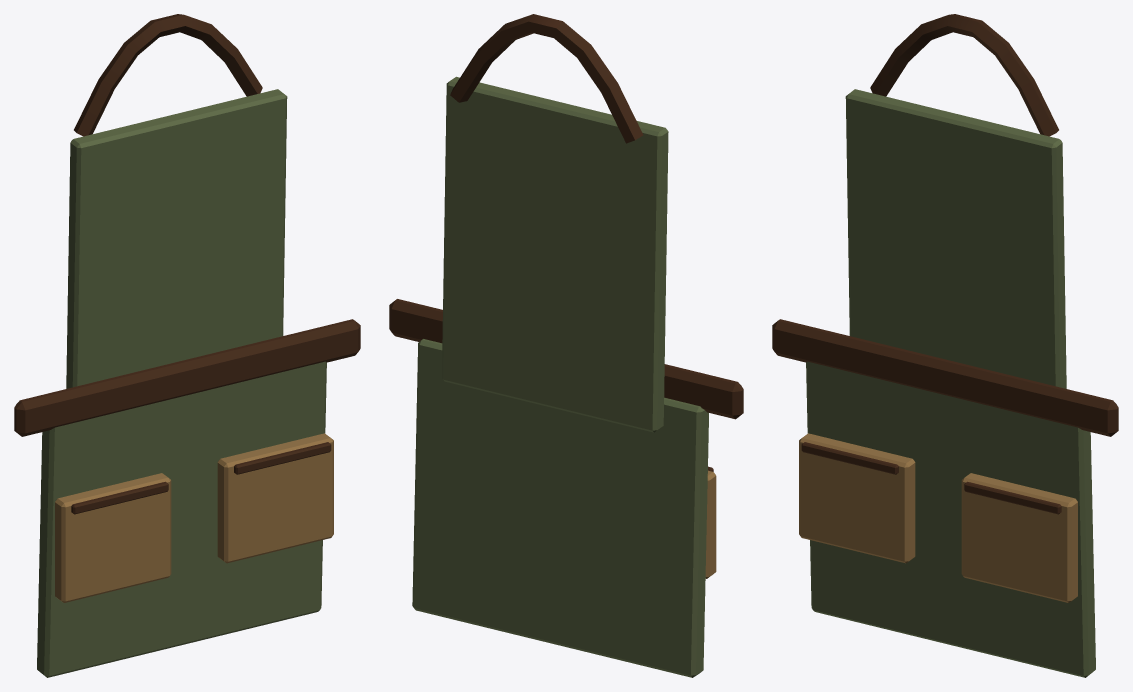
File: wearable_harvest_apron_a.glb
3 views of the same model, side by side, from view 1: azimuth 30°, elevation 25°; view 2: azimuth 150°, elevation 25°; view 3: azimuth 330°, elevation 25° (orthographic). The views are drawn at different scales.
Parts seen in each view (by area): view 1: harvest_apron_bib, harvest_apron_neck; view 2: harvest_apron_bib, harvest_apron_neck; view 3: harvest_apron_bib, harvest_apron_neck.
Part boxes in pixels (x1,y1,x2,y2): harvest_apron_bib: [37, 89, 333, 677]; harvest_apron_neck: [14, 14, 360, 514]; harvest_apron_bib: [412, 76, 716, 677]; harvest_apron_neck: [389, 14, 743, 471]; harvest_apron_bib: [799, 89, 1095, 677]; harvest_apron_neck: [772, 14, 1118, 514].
Size of the model in its own units: 0.7201 by 1.23 by 0.1406.
